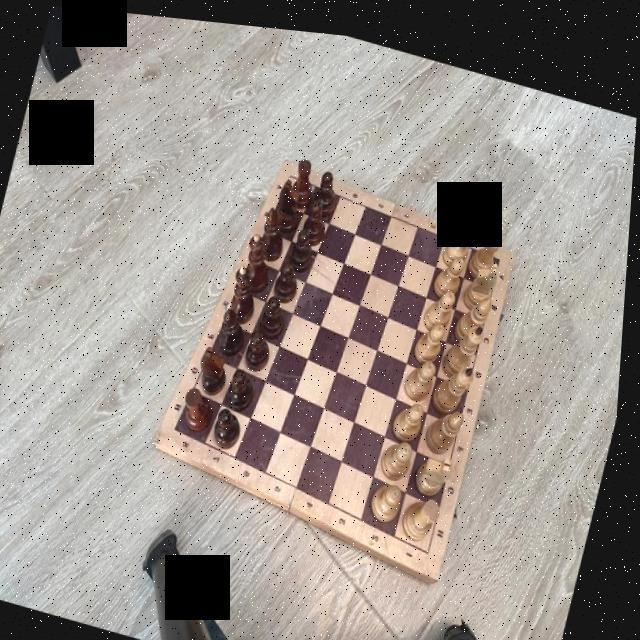chess-table-corners: (430, 538, 440, 548), (176, 419, 184, 429), (288, 164, 296, 174), (499, 245, 504, 251)
